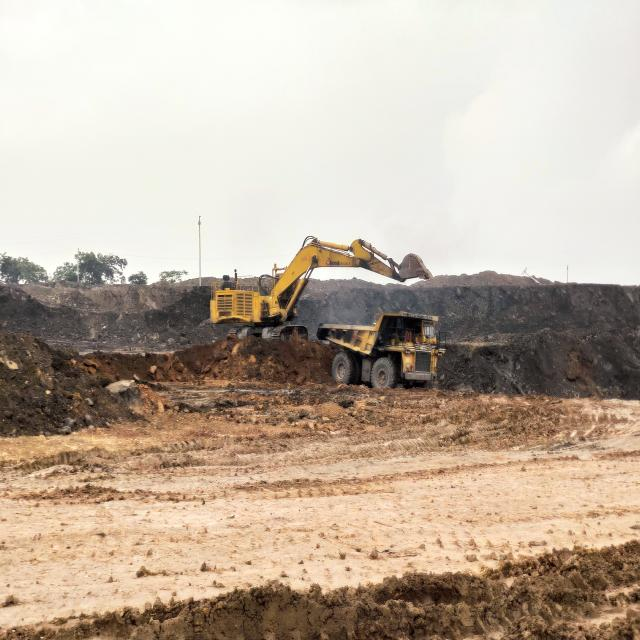dump_truck: (313, 309, 448, 391)
excavator: (207, 245, 398, 344)
